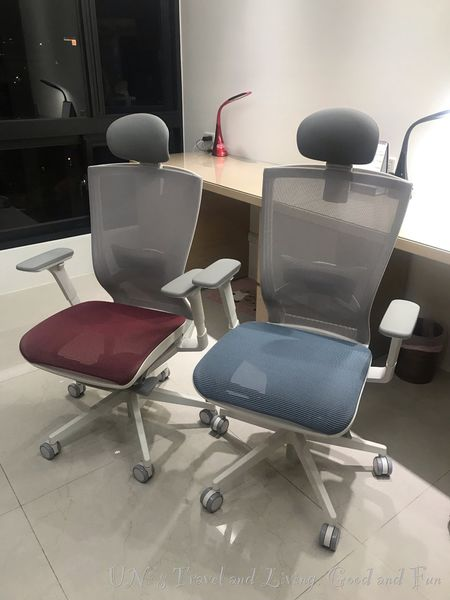chair: (200, 94, 429, 558), (13, 106, 215, 491)
